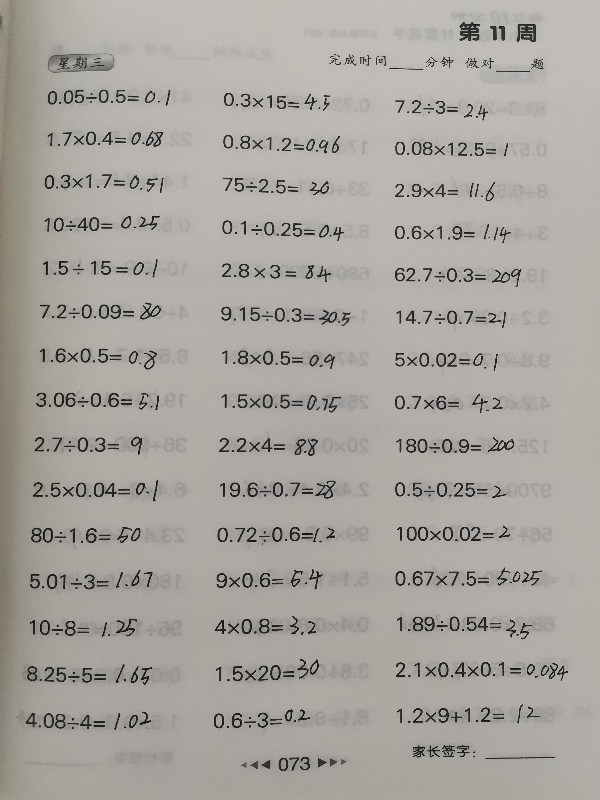equation: (390, 657, 577, 686), (392, 563, 546, 590), (392, 611, 535, 639), (393, 702, 543, 728), (22, 659, 155, 687), (30, 477, 162, 505), (390, 264, 524, 290), (25, 567, 156, 593), (36, 344, 160, 371), (21, 708, 154, 733), (217, 303, 353, 327), (32, 389, 162, 414), (36, 299, 165, 324), (216, 477, 340, 503), (390, 219, 514, 245), (217, 389, 344, 414), (40, 169, 167, 194), (44, 86, 175, 110), (218, 131, 343, 156), (217, 217, 347, 241), (212, 657, 323, 685), (213, 566, 327, 593), (40, 256, 162, 281), (391, 391, 507, 417), (214, 523, 339, 547), (26, 615, 141, 641), (31, 433, 146, 459), (27, 523, 145, 548), (211, 611, 319, 638), (392, 179, 499, 206), (218, 346, 338, 370), (40, 212, 163, 235), (44, 128, 167, 151), (392, 305, 509, 329), (391, 434, 518, 456), (218, 259, 334, 283), (390, 478, 509, 501), (219, 89, 333, 113), (390, 138, 512, 160), (215, 434, 321, 459), (394, 522, 514, 544), (391, 348, 501, 372), (209, 707, 313, 732), (218, 175, 332, 197), (391, 96, 492, 120)
